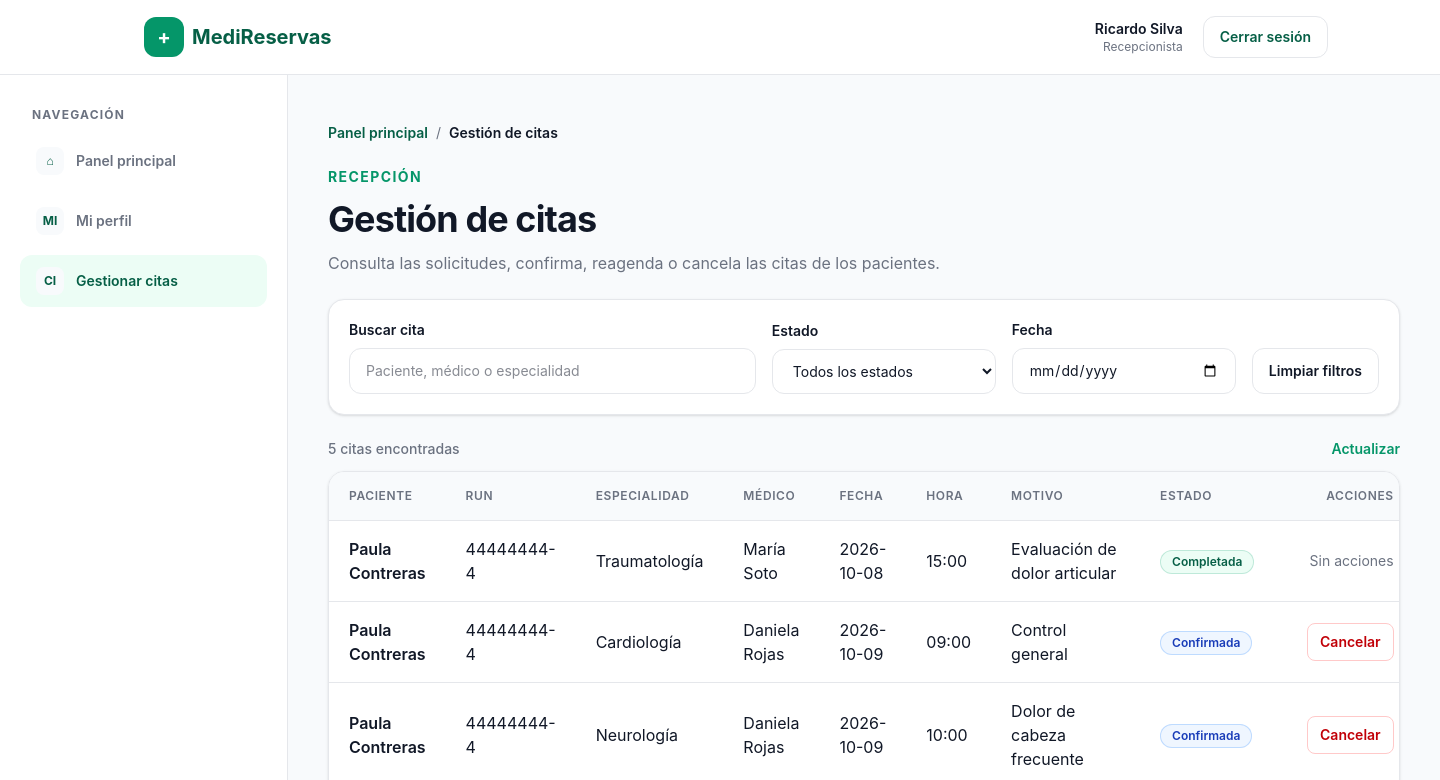
Test: Requisitos de citas en las pantallas por rol › CP-096 · RF-22 · recepción confirma la cancelación de una cita y libera el horario
Click the button "Cancelar" in the row of "Cardiología" at [1350, 642], box [1307,623,1394,661]
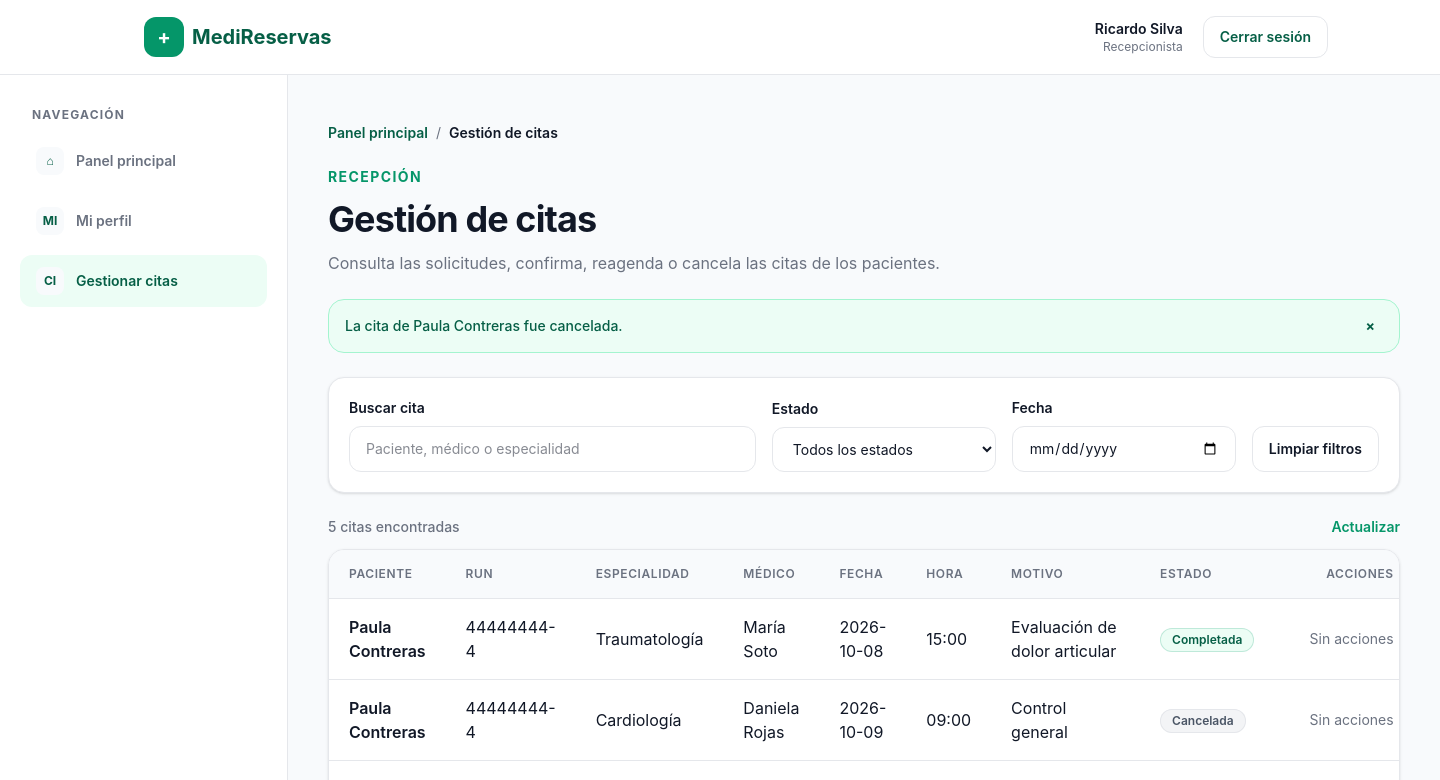
Now the message shows "fue cancelada", box [345,317,623,334]
